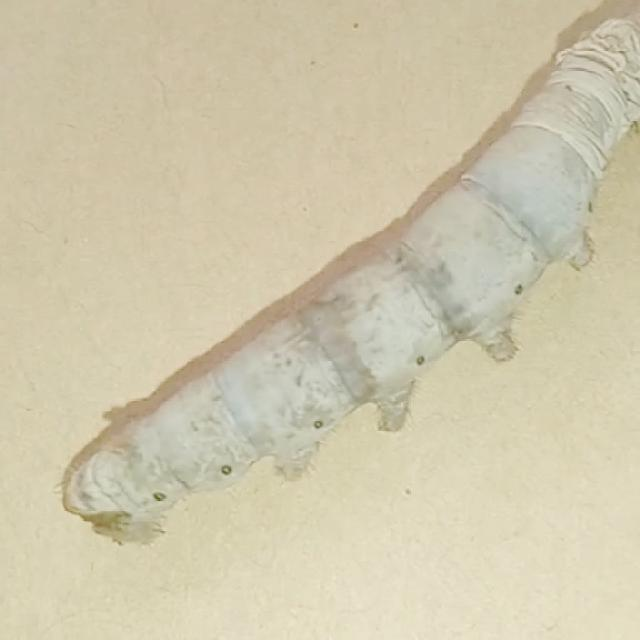Grasserie: (32, 14, 640, 542)
